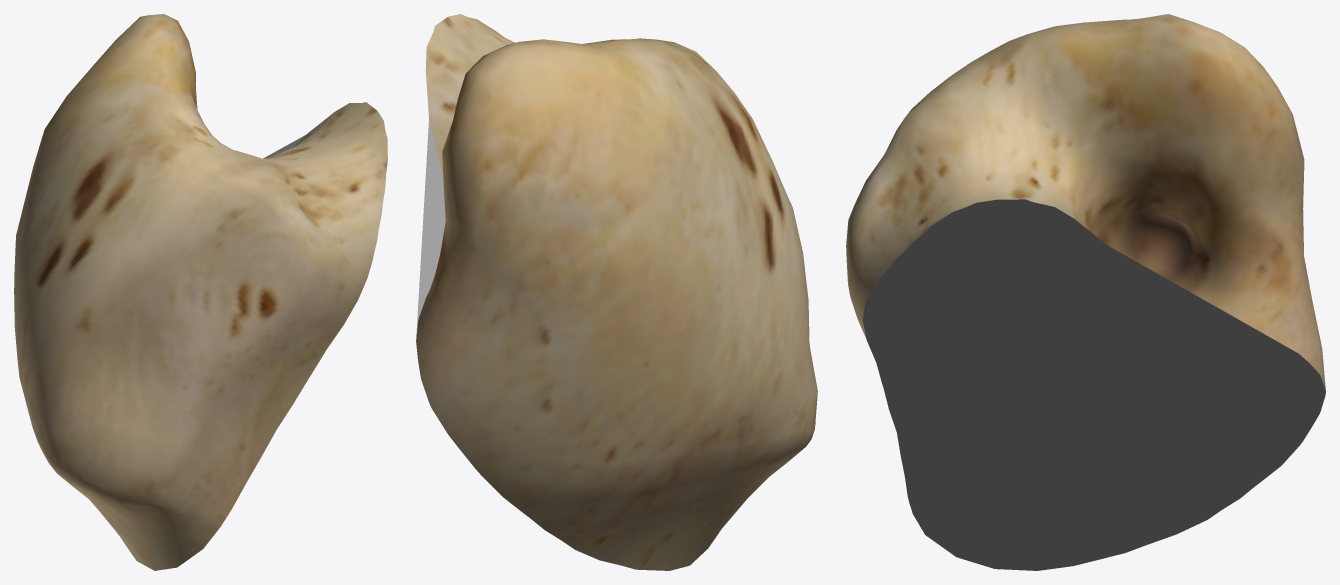
File: t-shaped fracture 2.fbx
3 renders of one model, left to right at view 1: azimuth 30°, elevation 25°; view 2: azimuth 150°, elevation 25°; view 3: azimuth 270°, elevation 25°, orthographic. The views are drawn at different scales.
Visible parts, largest first — view 1: polySurface2; view 2: polySurface2; view 3: polySurface2.
Part boxes in pixels (x1=…): polySurface2: x1=14, y1=14, x2=387, y2=570; polySurface2: x1=416, y1=14, x2=817, y2=570; polySurface2: x1=846, y1=14, x2=1325, y2=570.
Bounding box in the file's own units: 4.42 × 6.23 × 4.57.
